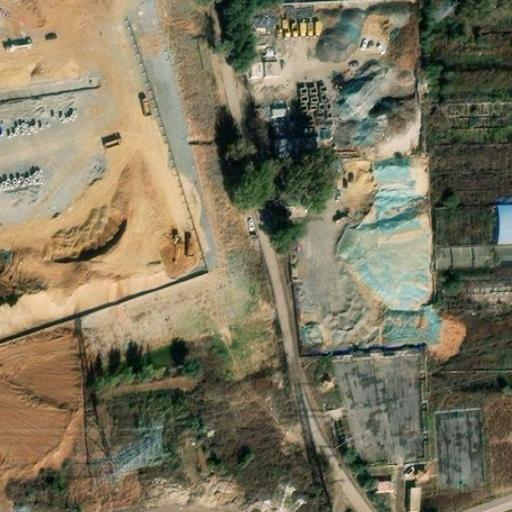building: (436, 407, 486, 488), (496, 205, 512, 244), (250, 60, 279, 77), (405, 482, 420, 511), (373, 476, 394, 493)
